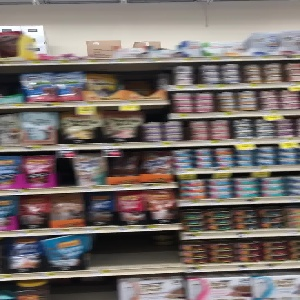void: (89, 232, 181, 264), (45, 274, 116, 300)
